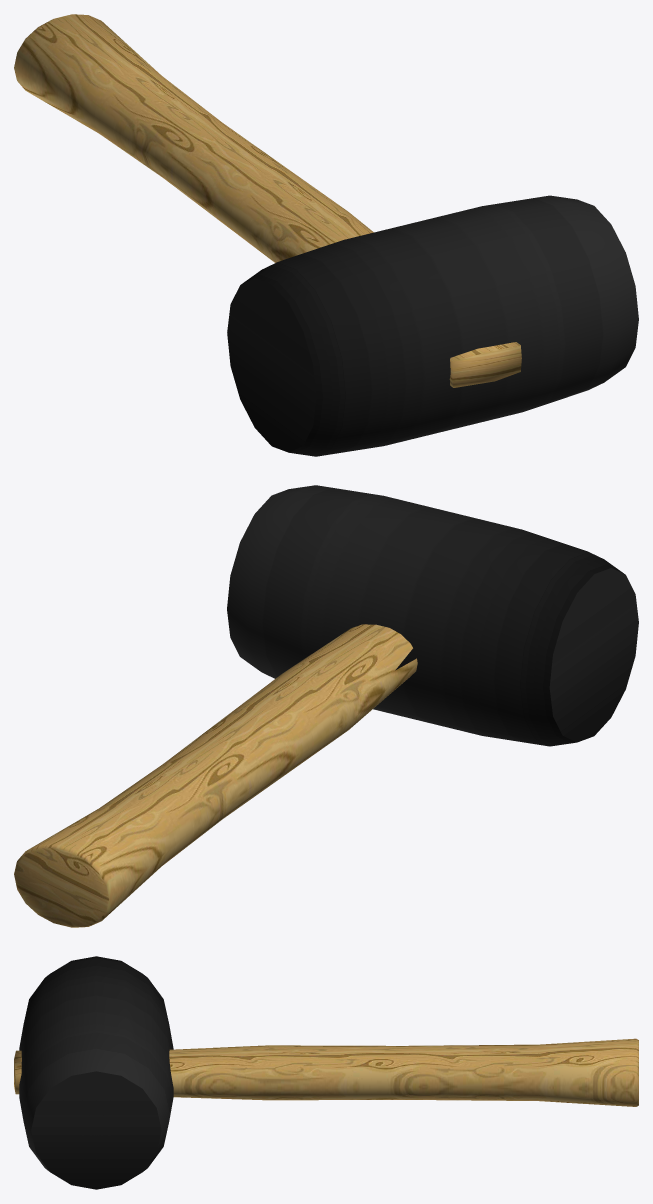
File: hammer.glb
3 views of the same model, one above another, from view 1: azimuth 30°, elevation 25°; view 2: azimuth 150°, elevation 25°; view 3: azimuth 270°, elevation 25° (orthographic). The views are drawn at different scales.
Visible parts, largest first — view 1: hammer; view 2: hammer; view 3: hammer.
Boxes of the visible parts, <box> form: hammer: <box>14,14,638,456</box>; hammer: <box>14,485,638,927</box>; hammer: <box>14,956,638,1189</box>.
Size of the model in its own units: 0.4325 by 0.2449 by 0.9927.
Materials: 1 (1 with a texture image).
